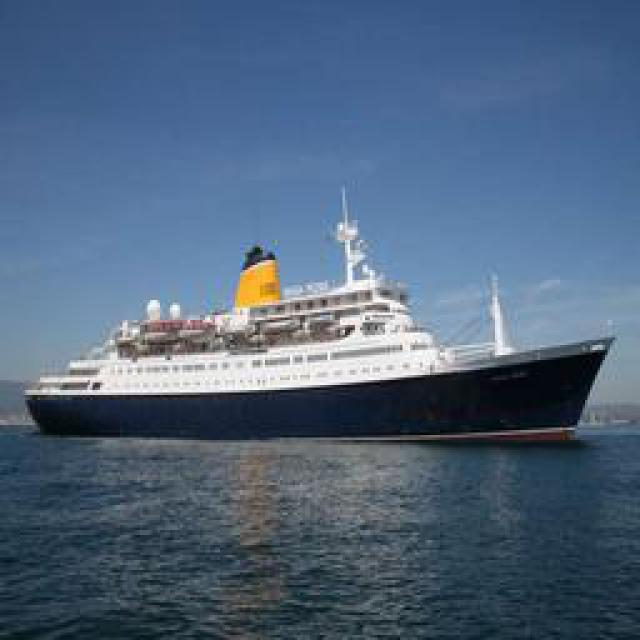Ship: (26, 184, 616, 434)
